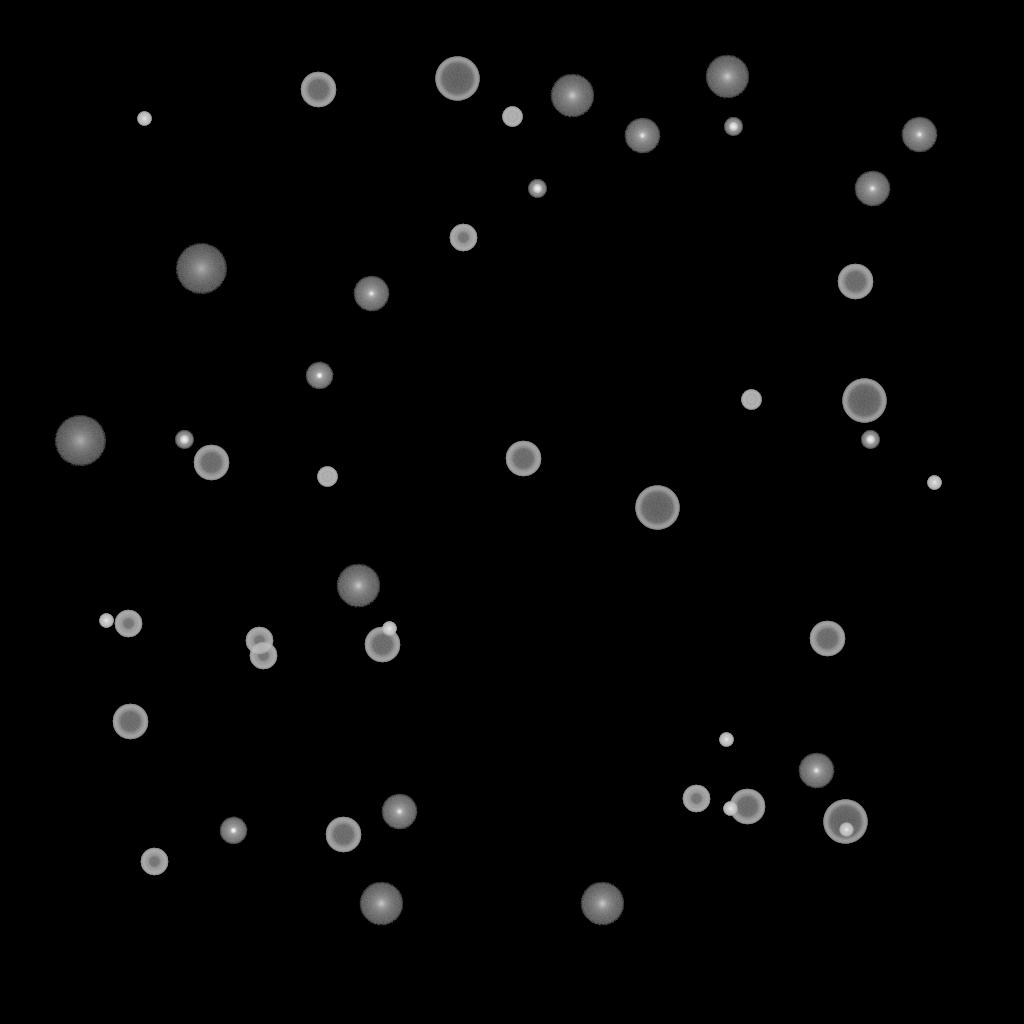depth:-10: (305, 362, 333, 390), (219, 817, 247, 845)
depth:-20: (861, 431, 879, 449), (528, 180, 546, 198), (175, 431, 193, 449), (724, 118, 742, 136)
depth:-30: (137, 112, 151, 126), (382, 622, 396, 636), (719, 733, 733, 747), (99, 614, 113, 628), (723, 802, 737, 816), (927, 476, 941, 490), (839, 823, 853, 837)
depth:-40: (502, 107, 522, 127), (741, 390, 761, 410), (317, 467, 337, 487)
depth:-50: (449, 224, 477, 252), (114, 610, 142, 638), (245, 627, 273, 655), (140, 848, 168, 876), (682, 785, 710, 813), (249, 642, 277, 670)
depth:-60: (300, 72, 336, 108), (193, 445, 229, 481), (837, 264, 873, 300), (364, 627, 400, 663), (325, 817, 361, 853), (809, 621, 845, 657), (112, 704, 148, 740), (729, 789, 765, 825), (505, 441, 541, 477)
depth:-70: (842, 379, 886, 423), (823, 800, 867, 844), (435, 57, 479, 101), (635, 486, 679, 530)
depth:0: (798, 753, 834, 789), (353, 276, 389, 312), (901, 117, 937, 153), (624, 118, 660, 154), (381, 794, 417, 830), (854, 171, 890, 207)
depth:10: (336, 564, 380, 608), (705, 55, 749, 99), (580, 882, 624, 926), (359, 882, 403, 926), (550, 74, 594, 118)
depth:20: (54, 416, 106, 466), (175, 244, 227, 294)
